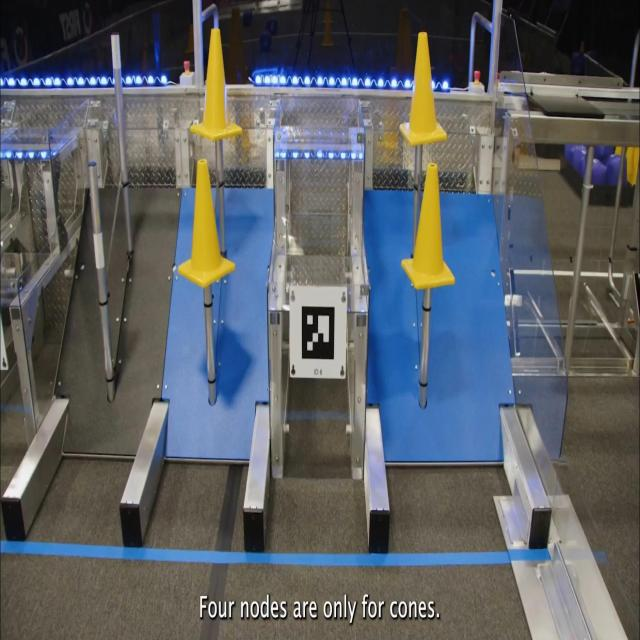frc_cone: (178, 159, 235, 286), (402, 163, 456, 290), (190, 29, 242, 141), (400, 32, 447, 146), (622, 144, 635, 186), (630, 142, 640, 182)
frc_cube: (604, 154, 626, 189), (584, 156, 606, 189), (590, 139, 615, 157), (572, 144, 588, 172), (564, 137, 580, 160)
